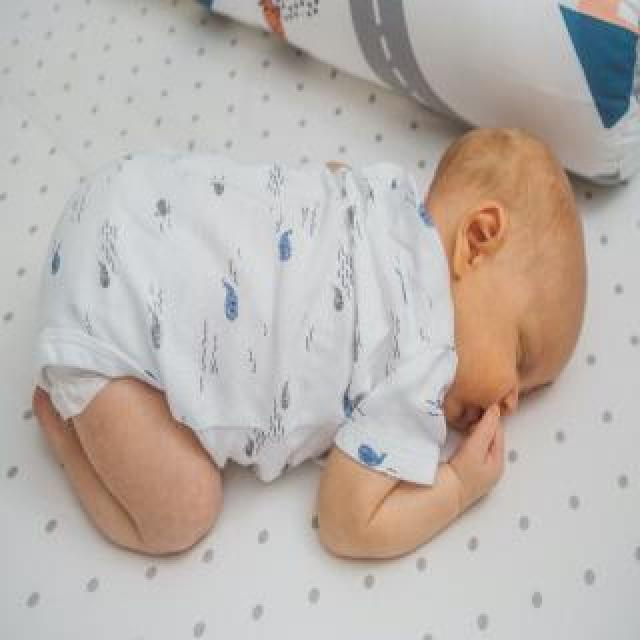baby: (34, 128, 590, 564)
